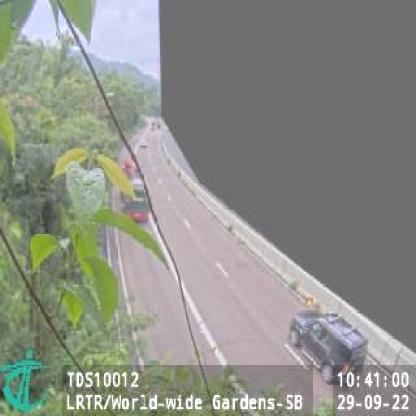Car: (290, 296, 370, 382)
